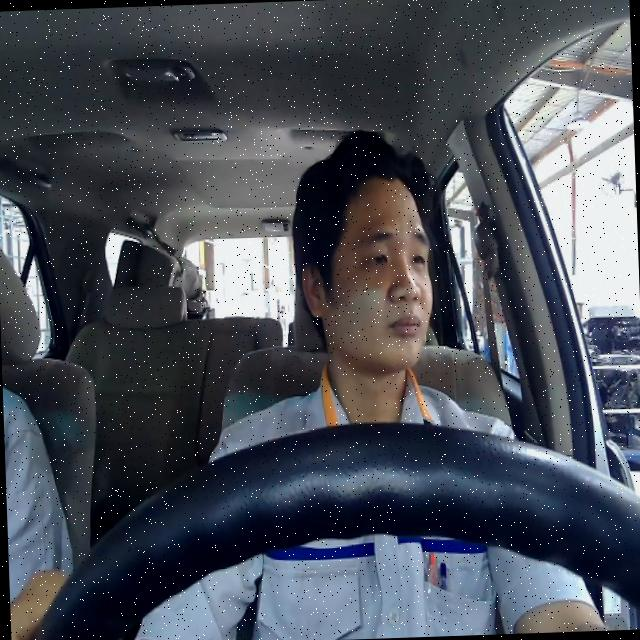seeing_right: (294, 170, 434, 374)
